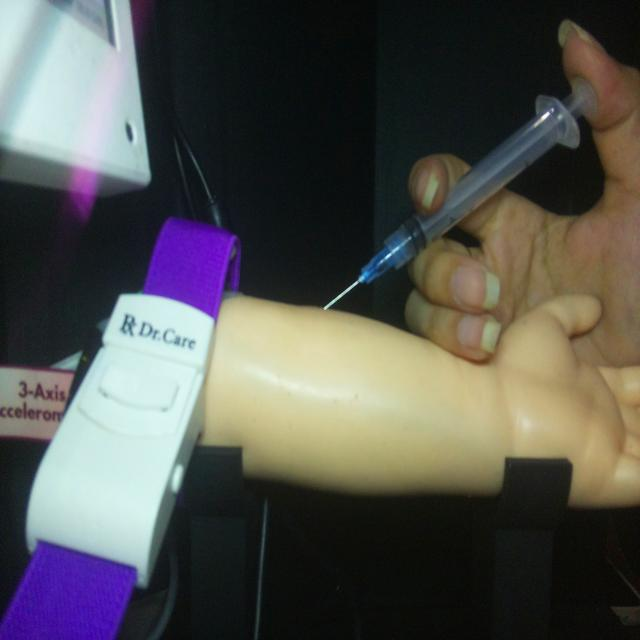28 degrees: (321, 74, 599, 312)
